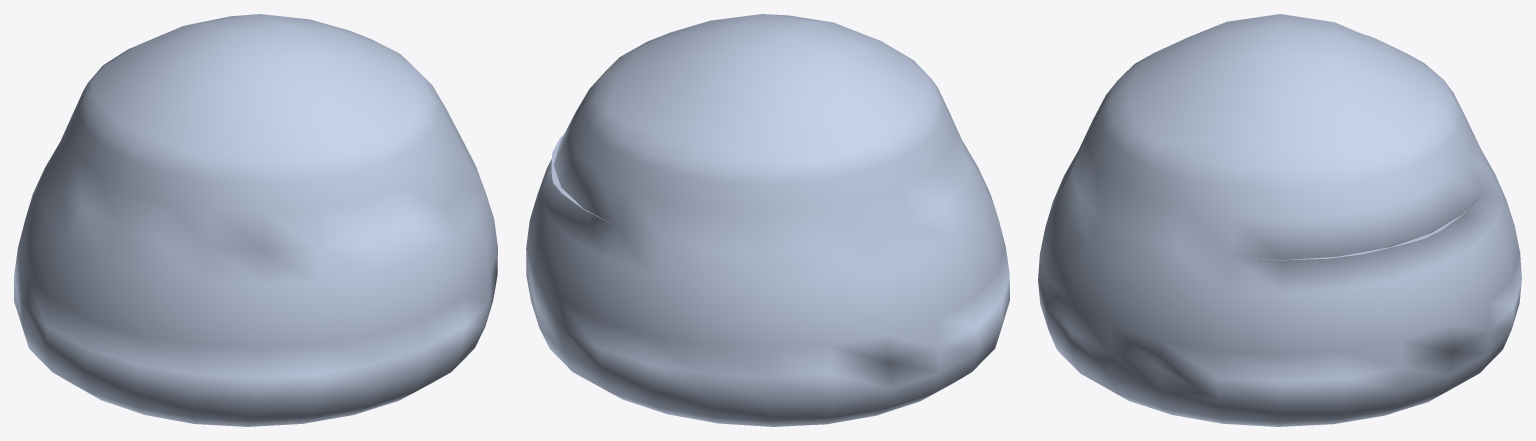
Rendered from slime.fbx.
The picture shows the model from 3 angles, left to right: view 1: azimuth 30°, elevation 25°; view 2: azimuth 150°, elevation 25°; view 3: azimuth 270°, elevation 25°; orthographic projection.
Parts seen in each view (by area): view 1: Cube; view 2: Cube; view 3: Cube.
Boxes of the visible parts, box(x1,y1,x2,y2) form: Cube: box(14, 14, 497, 426); Cube: box(526, 14, 1009, 426); Cube: box(1038, 14, 1521, 426).
Size of the model in its own units: 352 by 252 by 351.
